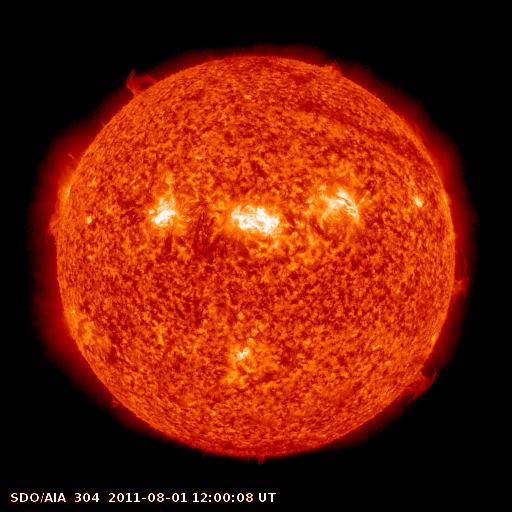prominence: (399, 356, 446, 408), (118, 60, 165, 105), (447, 246, 473, 309), (41, 196, 69, 244)
